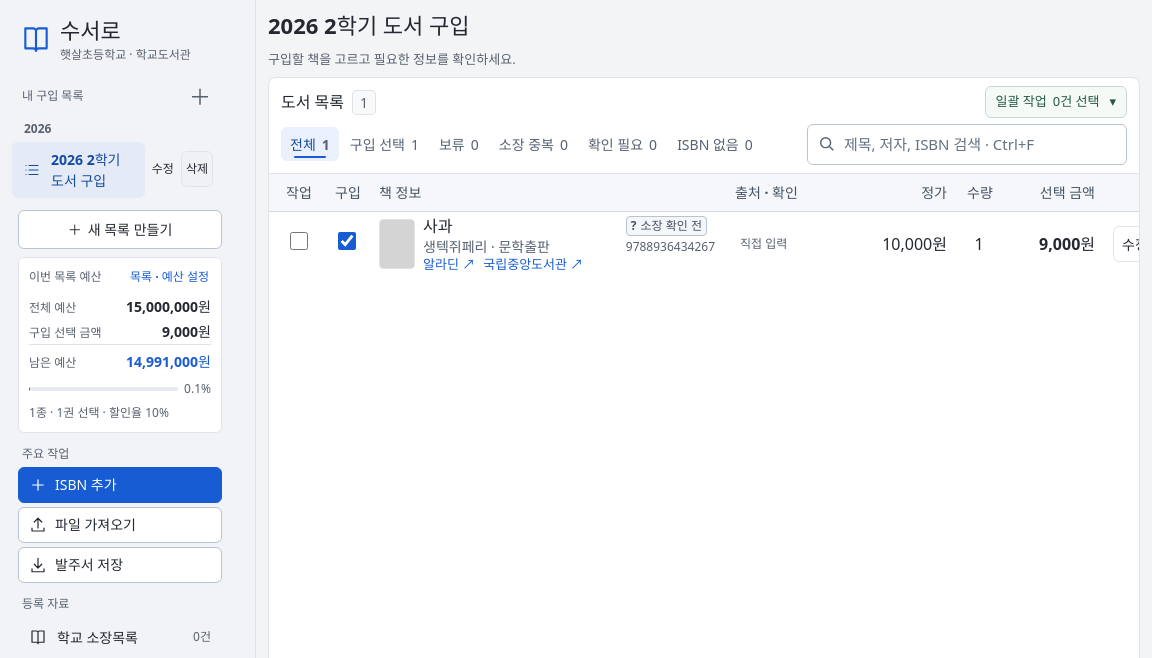
keeps the bulk deletion confirmation and selection when saving fails
Check: the button "사과" is shown, box [423,216,618,236]
Click the text "일괄 작업" at [1021, 102], box [996,92,1047,112]
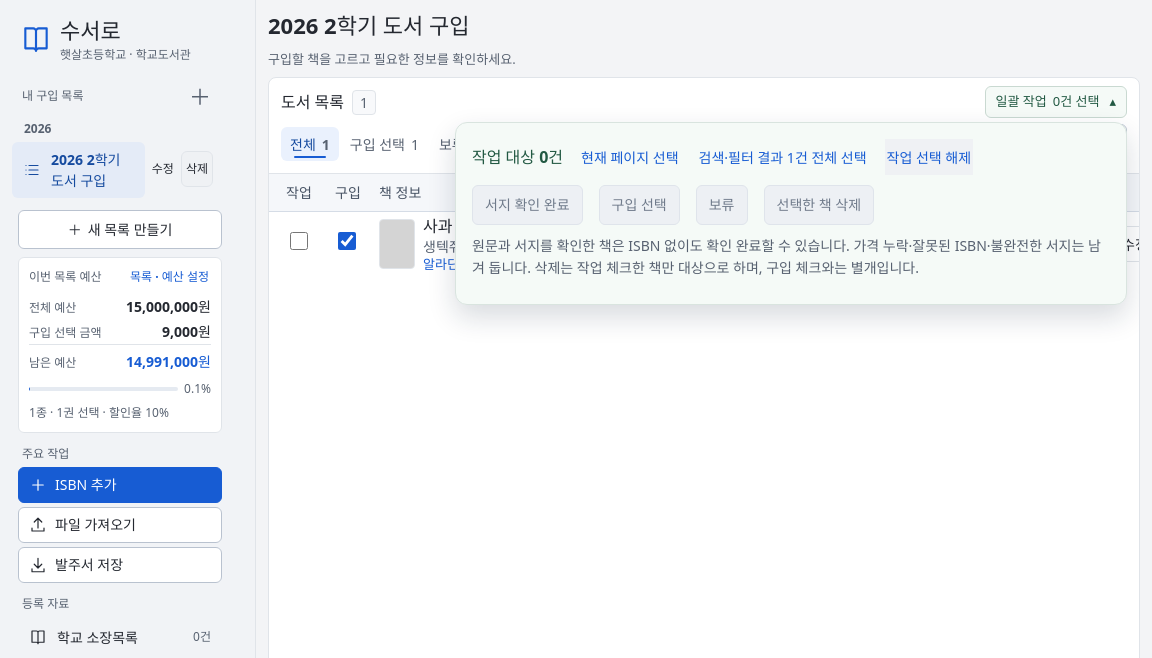
Click the checkbox named "사과 일괄 작업 선택" at [299, 241], box [290,232,308,250]
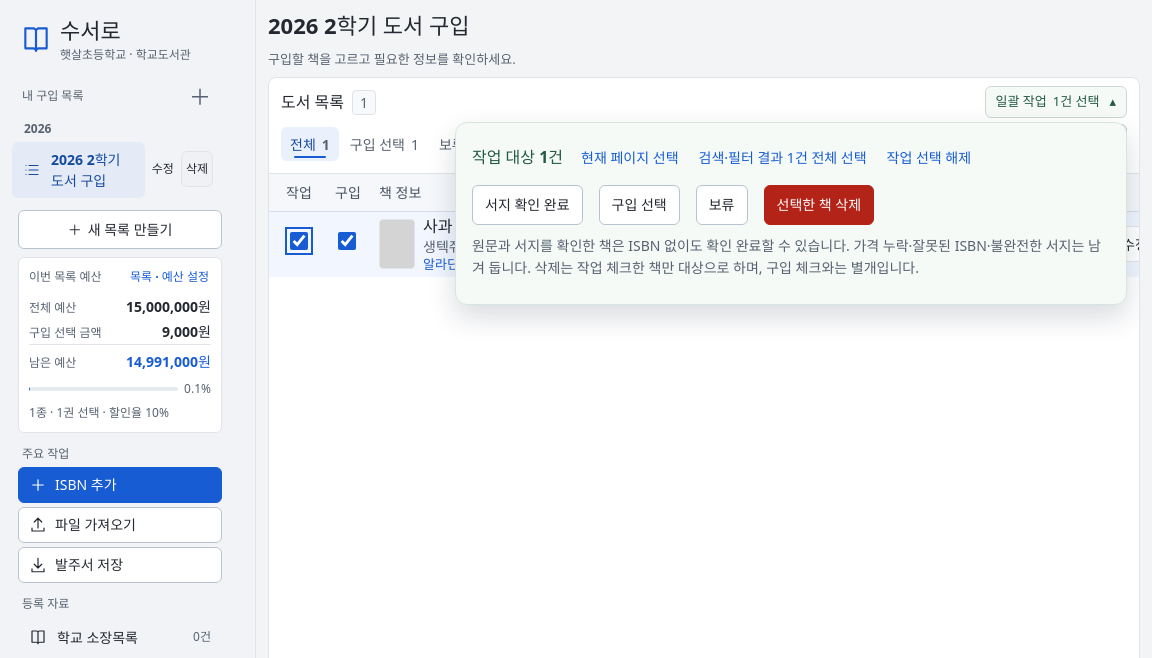
Click the button "선택한 책 삭제" at [819, 205], box [764,185,874,225]
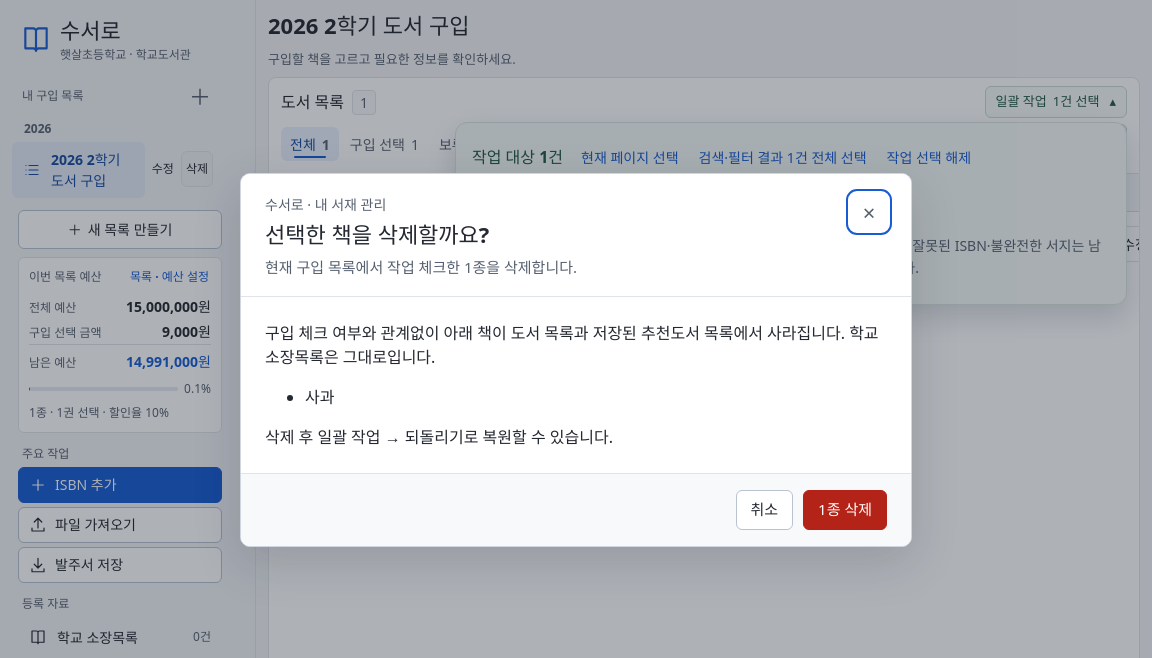
Click the button "1종 삭제" at [845, 510], box [803,490,887,530]
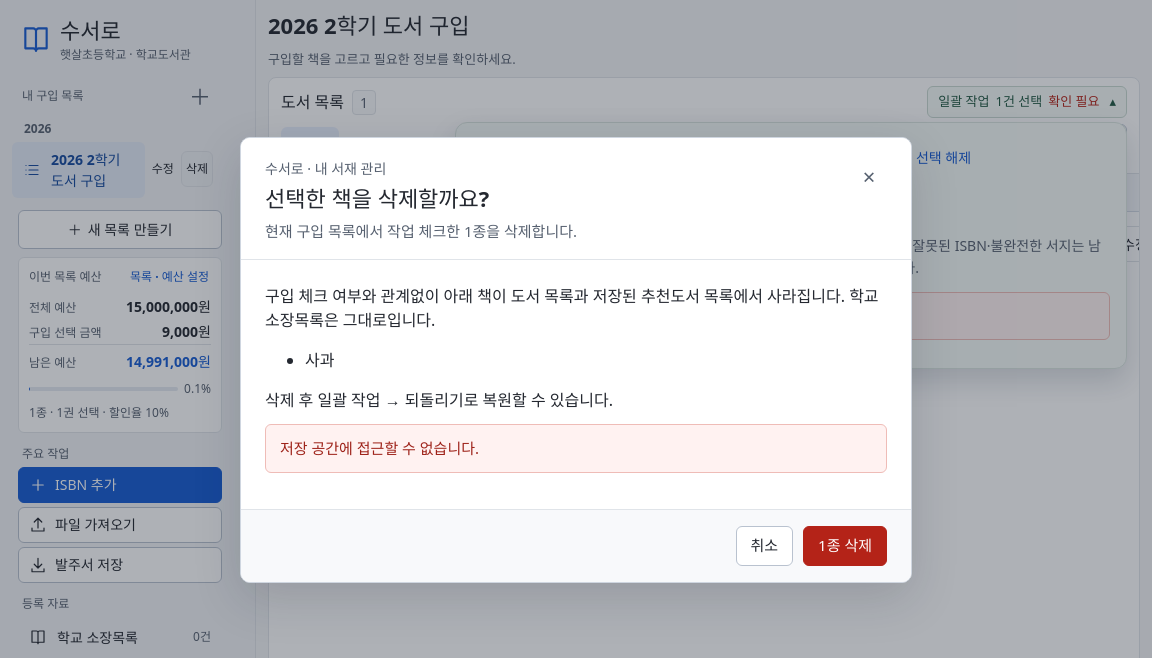
Check: the checkbox named "사과 일괄 작업 선택" is checked, box [290,232,308,250]
Check: the message reads "저장 공간에 접근할 수 없습니다.", box [280,438,479,458]
Click the button "1종 삭제" at [845, 546], box [803,526,887,566]
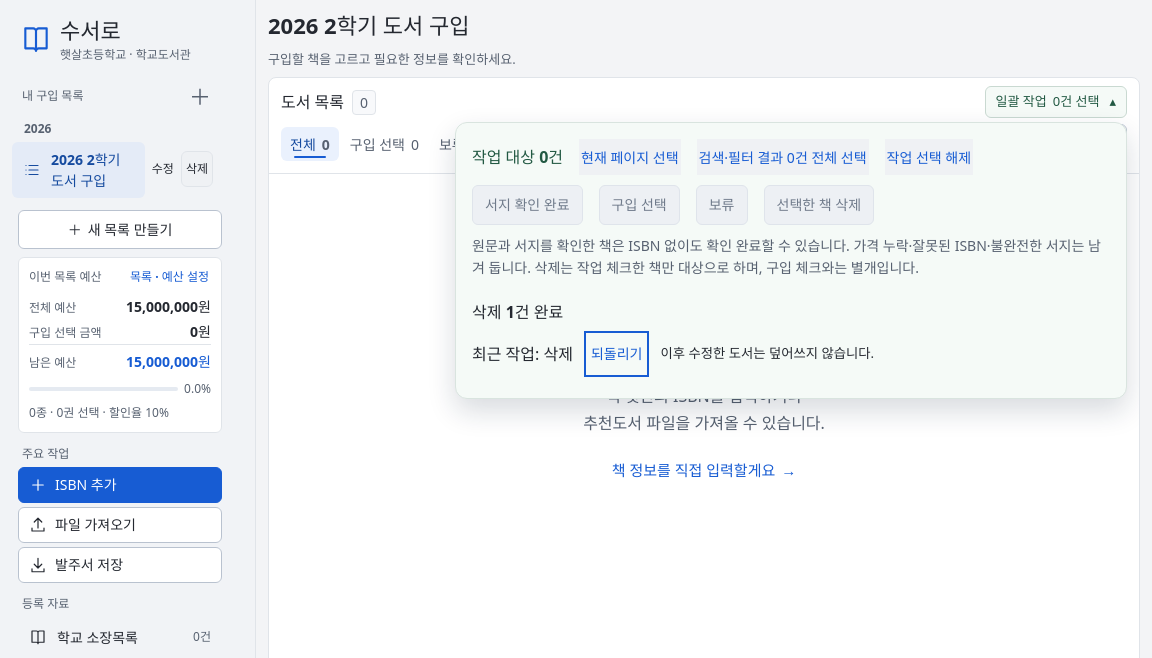
Check: the heading "선택한 책을 삭제할까요?" is gone
